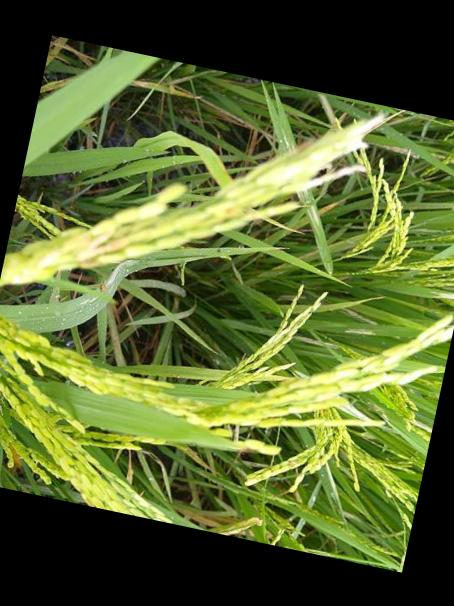Panicle Blight: (89, 233, 130, 252), (79, 257, 103, 268), (222, 207, 240, 216)
